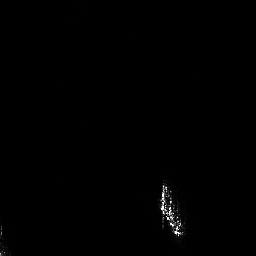ship: (158, 179, 187, 240)
